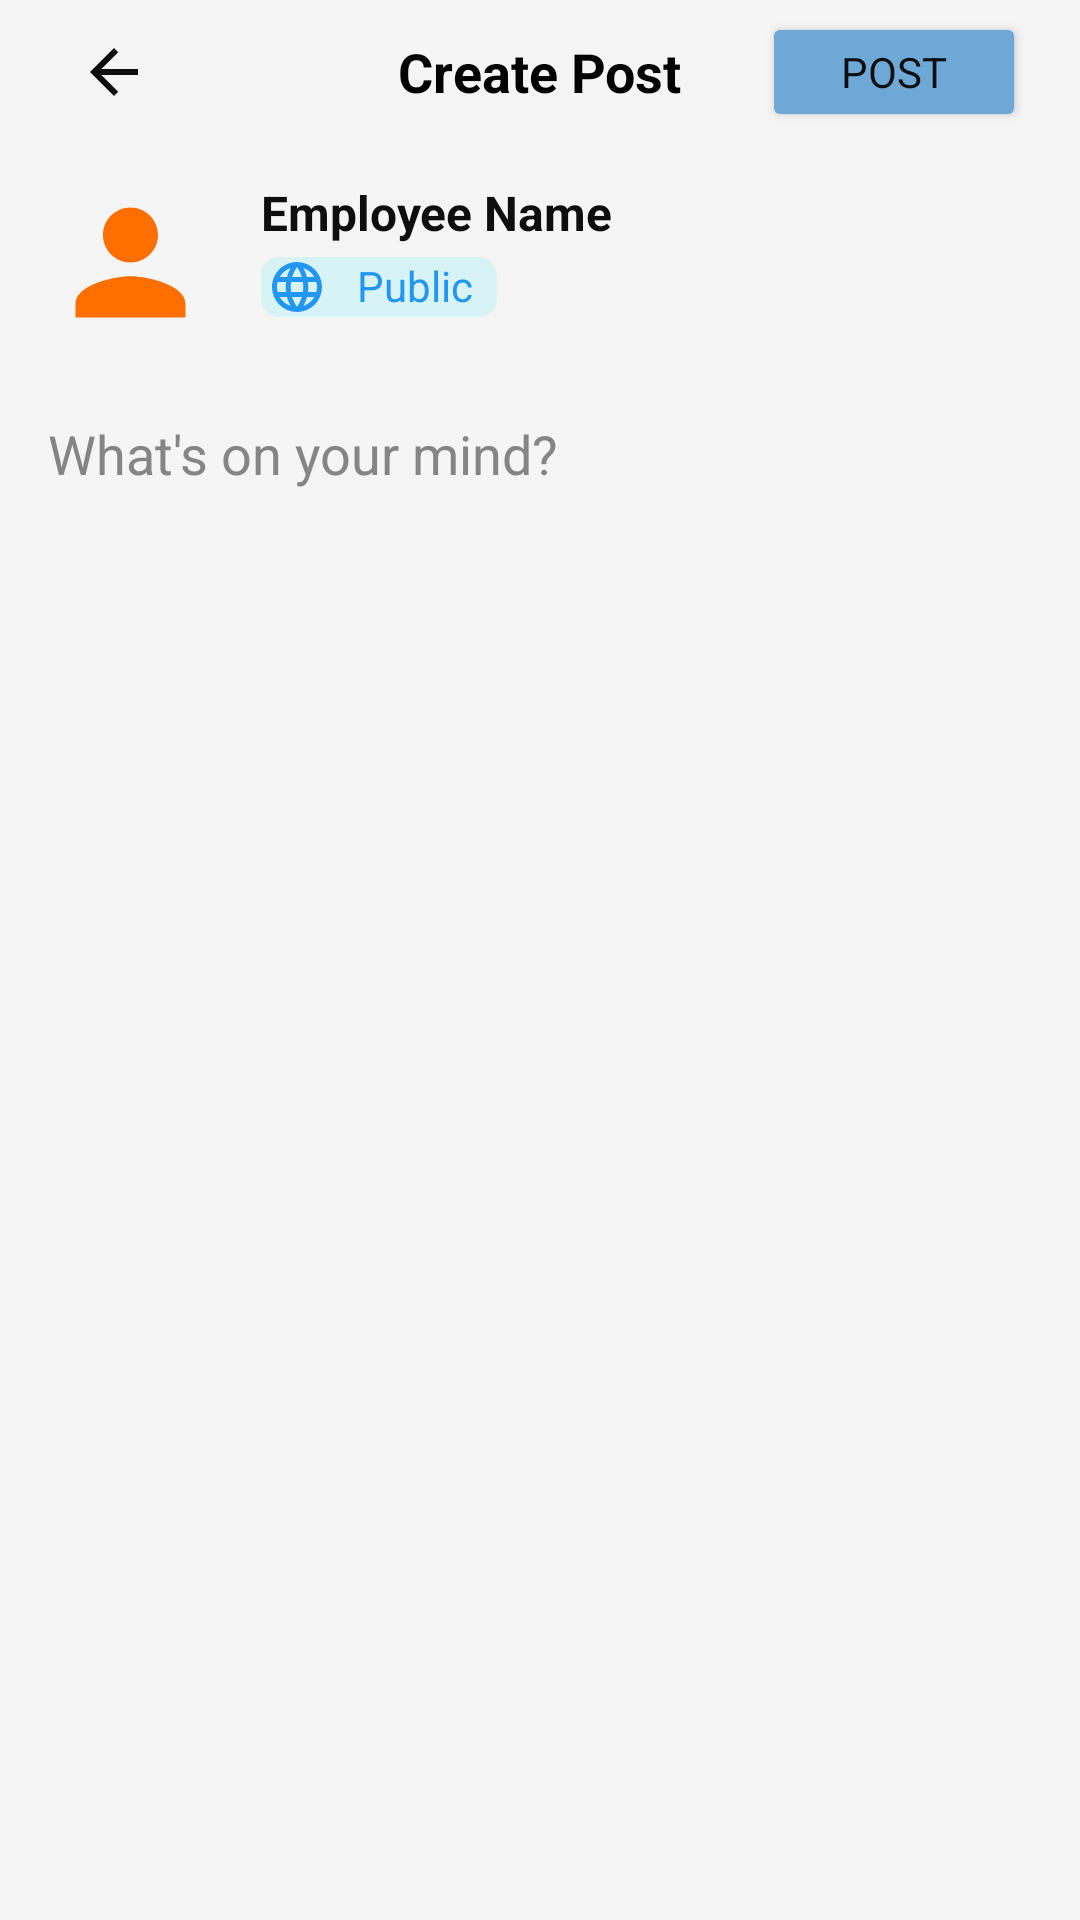

Icons on this 1080x1920 Android screen, each with its box as (x1, y1, x2, y2):
emp: (75, 207, 186, 318)
language: (261, 257, 333, 317)
